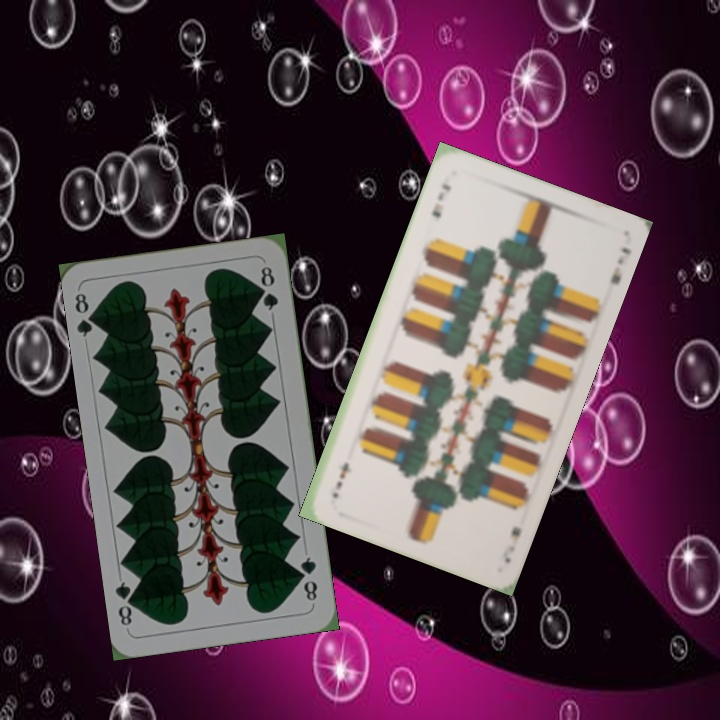E7: (499, 522, 524, 567), (428, 178, 454, 221)
G8: (71, 286, 101, 340), (295, 552, 320, 604)
